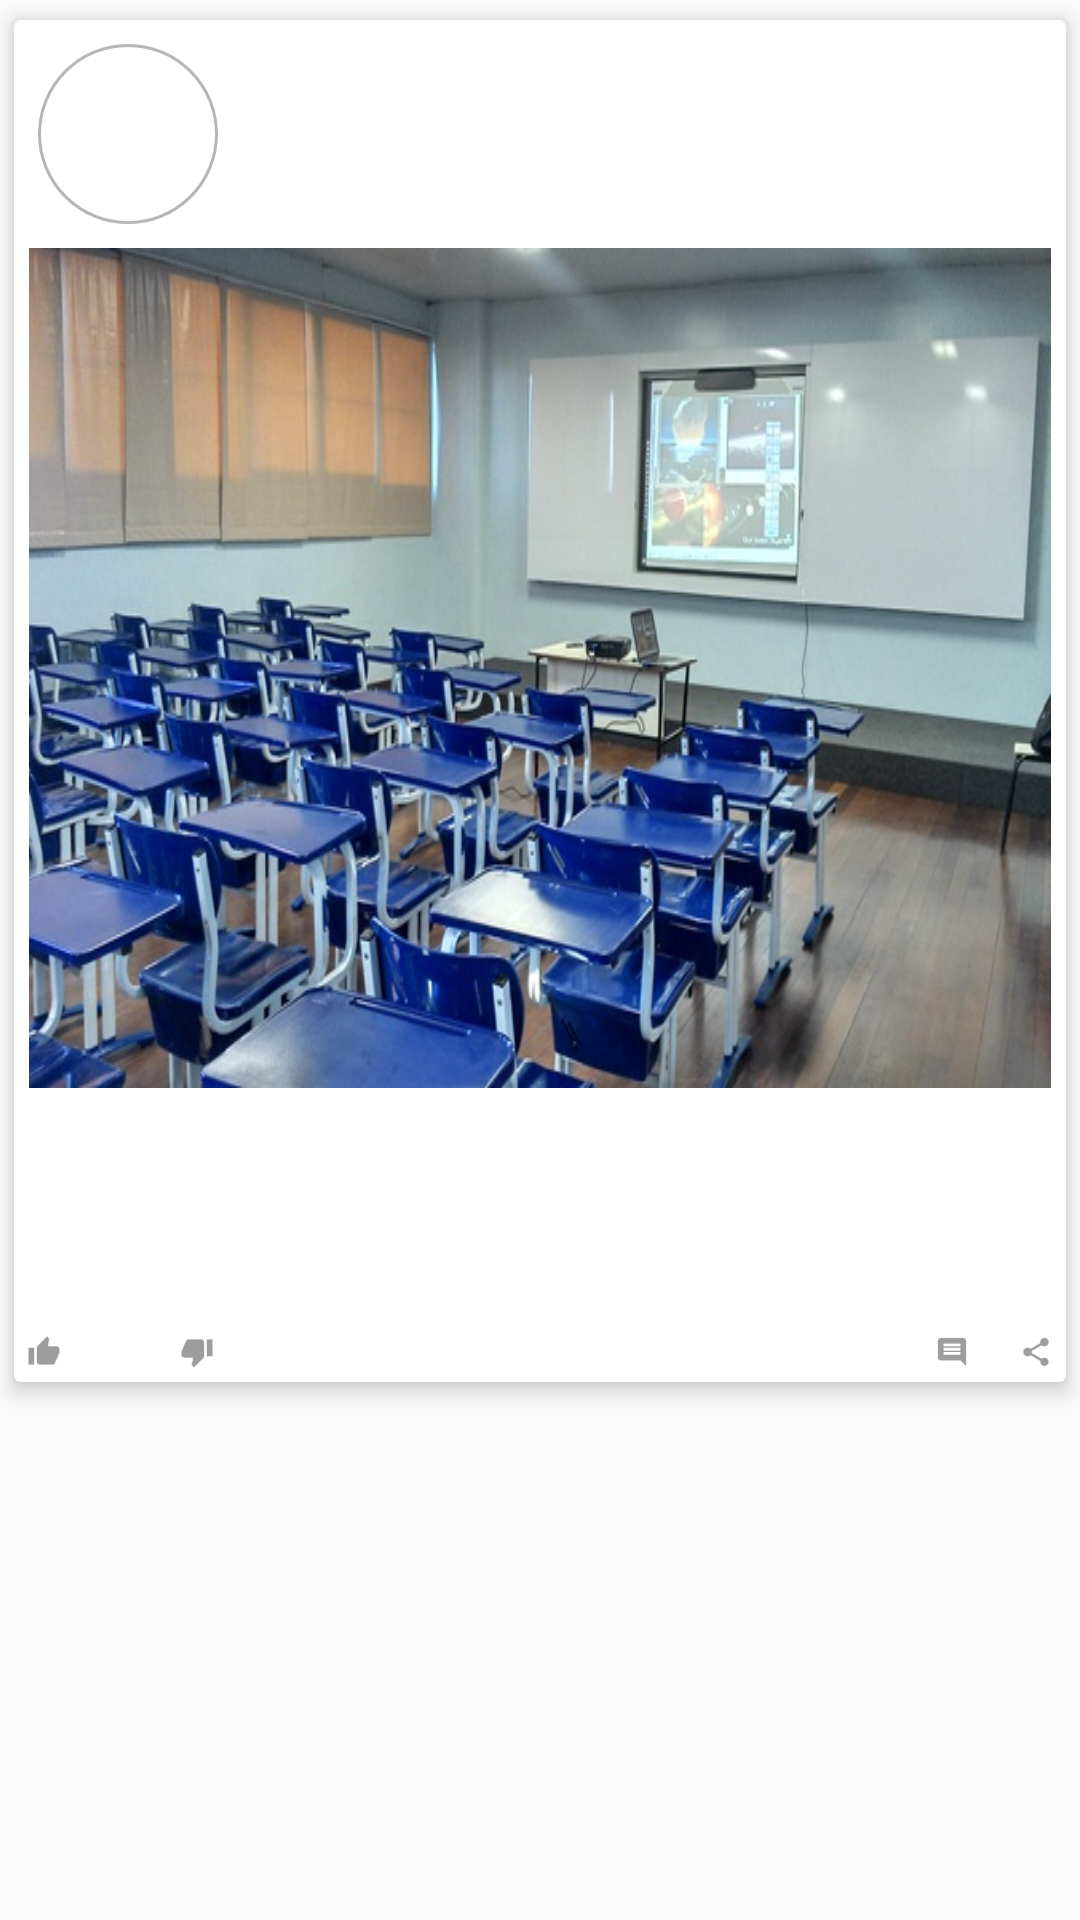

Screen size 1080x1920. Icon name, then its center in pixels as point (x, y):
notlike: point (197, 1353)
share: point (1036, 1352)
